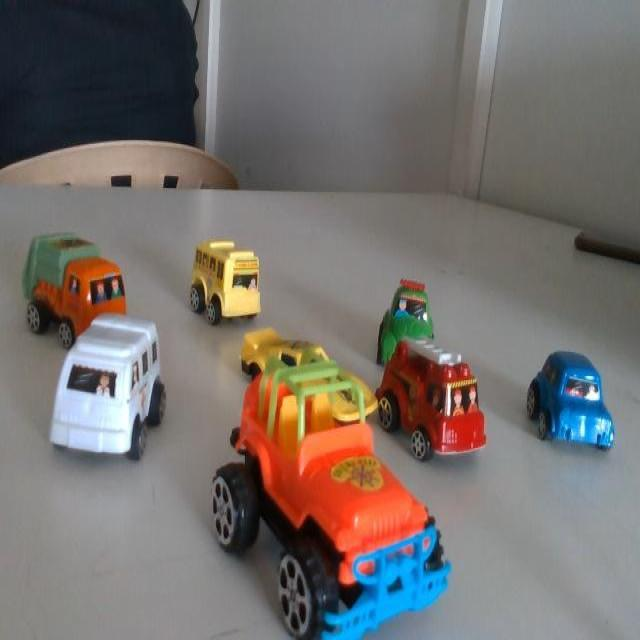car: (314, 461, 461, 639), (245, 322, 386, 458), (528, 342, 625, 470), (65, 332, 170, 444), (407, 342, 495, 474), (43, 229, 139, 344), (382, 280, 455, 379), (212, 236, 271, 320)
